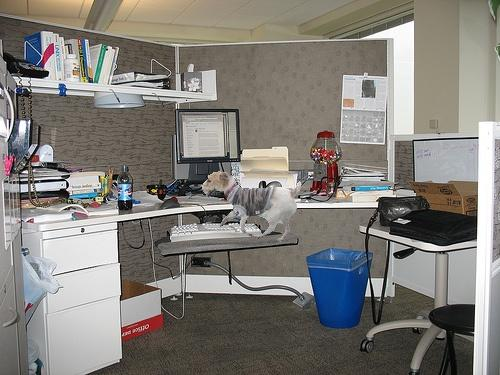tampered: (203, 172, 301, 242)
